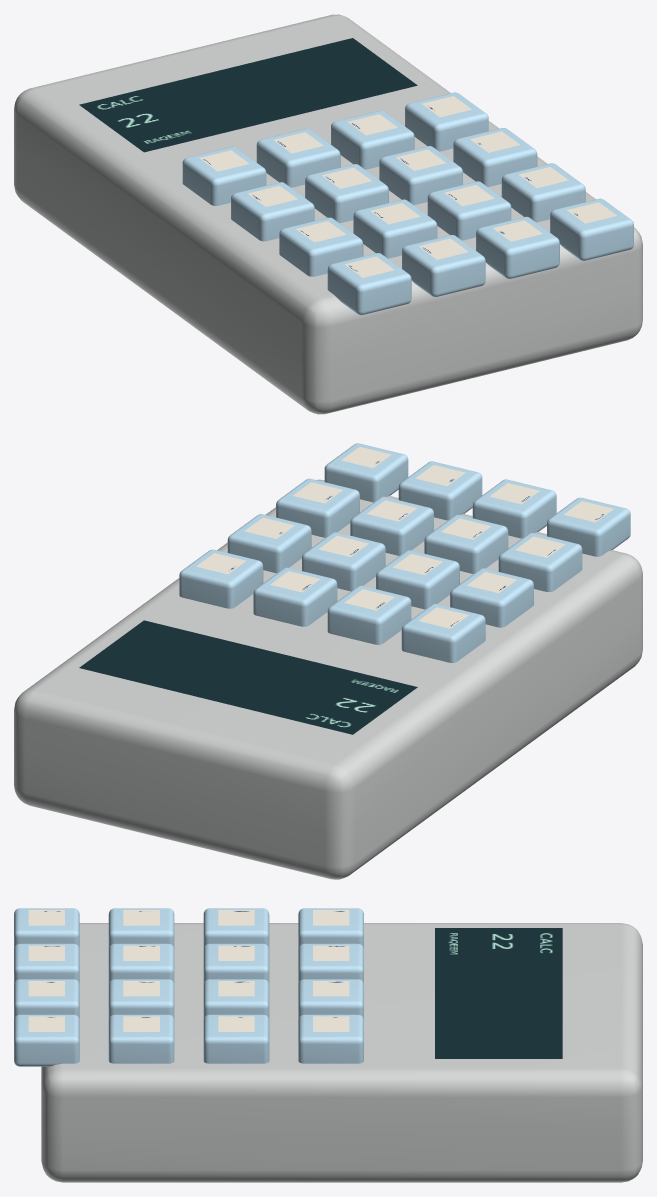
The model's file is calculator.glb.
3 views of the same model, one above another, from view 1: azimuth 30°, elevation 25°; view 2: azimuth 150°, elevation 25°; view 3: azimuth 270°, elevation 25° (orthographic). The views are drawn at different scales.
Visible parts, largest first — view 1: Calculator_Base, Calculator_Display, Keycap_3_0, Keycap_3_3, Keycap_3_1, Keycap_3_2, Keycap_2_0, Keycap_0_0, Keycap_1_0, Keycap_0_1, Keycap_2_3, Keycap_2_1 (+22 smaller); view 2: Calculator_Base, Calculator_Display, Keycap_0_0, Keycap_0_2, Keycap_0_3, Keycap_0_1, Keycap_3_0, Keycap_2_0, Keycap_1_0, Keycap_3_1, Keycap_3_3, Keycap_3_2 (+22 smaller); view 3: Calculator_Base, Calculator_Display, Keycap_3_3, Keycap_1_3, Keycap_2_3, Keycap_0_3, Keycap_1_1, Keycap_2_1, Keycap_0_1, Keycap_3_1, Keycap_1_0, Keycap_1_2 (+22 smaller).
Boxes of the visible parts, x1,y1,x2,y2 form: Calculator_Base: (14,14,642,414); Calculator_Display: (79,38,417,152); Keycap_3_0: (327,253,411,315); Keycap_3_3: (550,198,633,260); Keycap_3_1: (402,235,485,296); Keycap_3_2: (476,216,559,278); Keycap_2_0: (279,217,363,276); Keycap_0_0: (182,146,266,205); Keycap_1_0: (231,182,314,241); Keycap_0_1: (256,128,340,187); Keycap_2_3: (501,163,585,222); Keycap_2_1: (353,199,437,258); Calculator_Base: (14,479,642,879); Calculator_Display: (79,620,417,734); Keycap_0_0: (401,603,485,662); Keycap_0_2: (253,567,337,626); Keycap_0_3: (179,549,263,608); Keycap_0_1: (327,585,411,644); Keycap_3_0: (547,497,630,556); Keycap_2_0: (498,533,582,592); Keycap_1_0: (450,568,533,627); Keycap_3_1: (472,479,556,538); Keycap_3_3: (324,443,408,502); Keycap_3_2: (398,461,482,520); Calculator_Base: (41,923,642,1182); Calculator_Display: (435,928,562,1058); Keycap_3_3: (14,1014,79,1066); Keycap_1_3: (203,1014,269,1063); Keycap_2_3: (108,1014,174,1063); Keycap_0_3: (298,1014,363,1063); Keycap_1_1: (203,943,269,984); Keycap_2_1: (108,943,174,984); Keycap_0_1: (298,943,363,984); Keycap_3_1: (14,943,79,983); Keycap_1_0: (203,908,269,948); Keycap_1_2: (203,979,269,1019).
Bounding box in the file's own units: 0.105 × 0.042 × 0.1725.
Materials: 19 (17 with a texture image).
